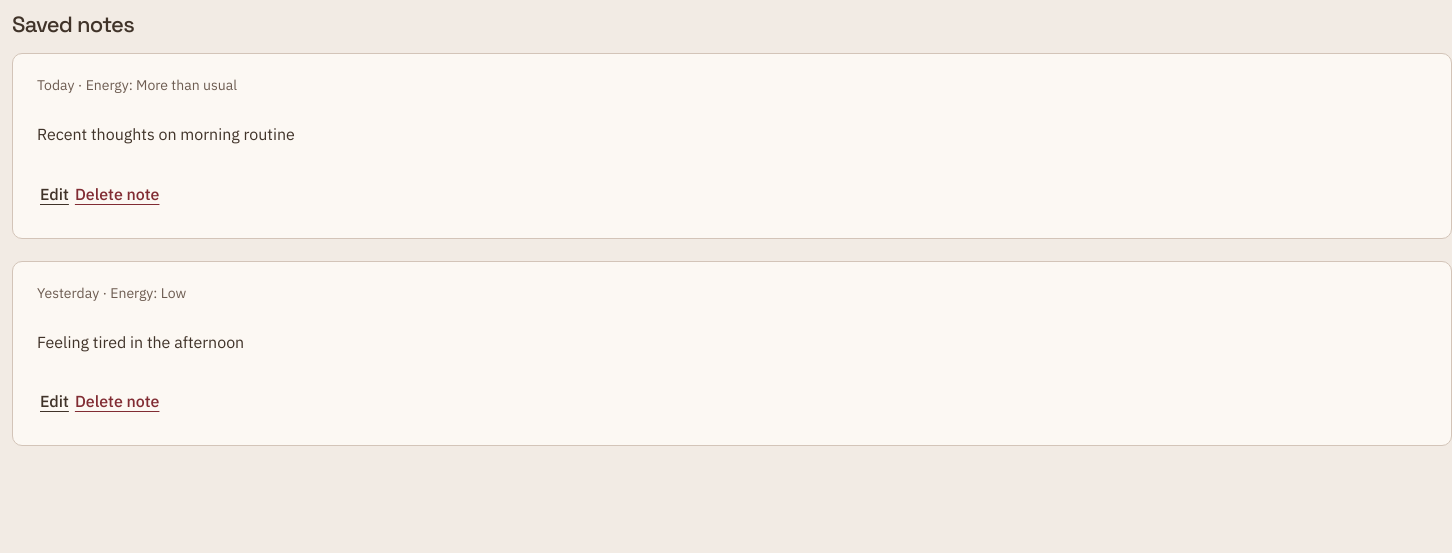
Notes UI component › clicking Edit opens the inline textarea with Save and Cancel
What coordinates should you click on to do the following:
click the button "Edit" below "Today"
I would click on:
 (54, 195)
Its box is [37,172,72,218].
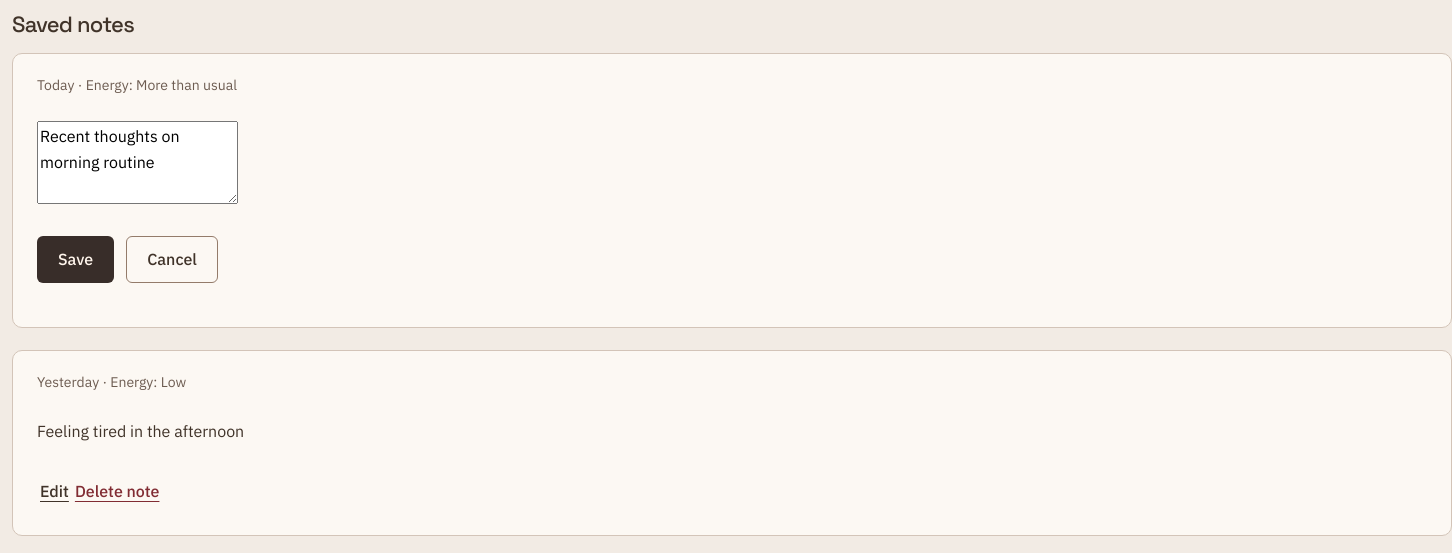
Check: the text box showing "Recent thoughts on morning routine" is shown, box [37,121,238,204]
Check: the button "Save" is shown, box [37,236,114,283]
Check: the button "Cancel" is shown
// Cancel restores original display
What coordinates should you click on to do the following:
click the button "Cancel"
I would click on:
 (172, 260)
Its box is [126,236,218,283].
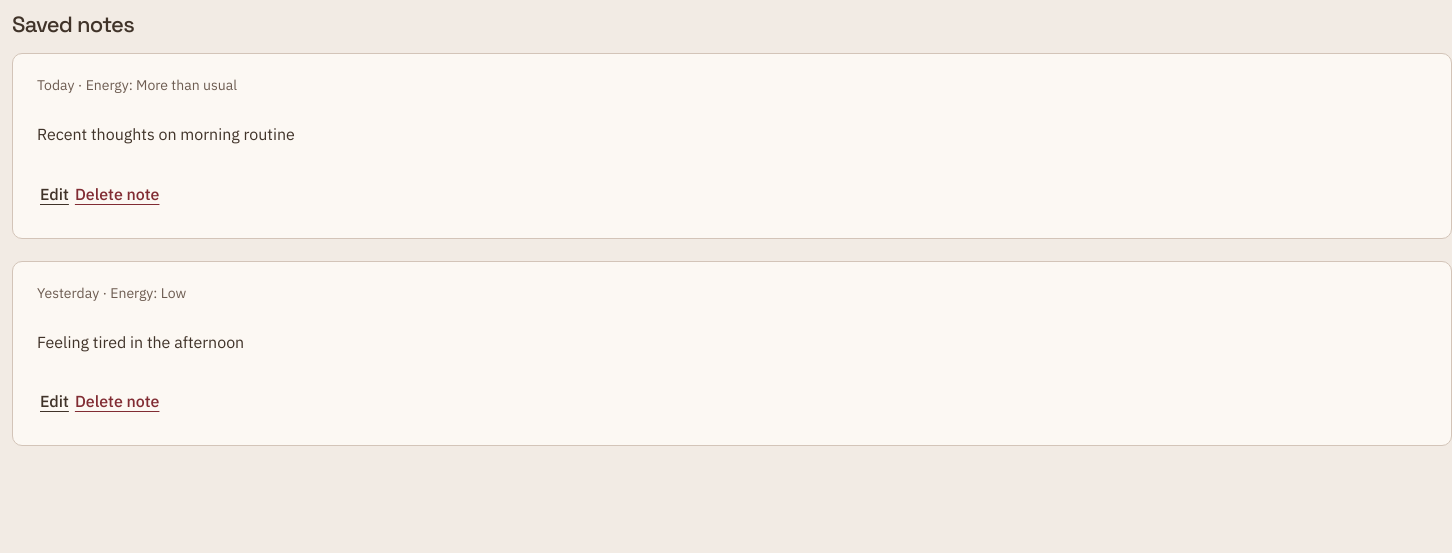
Check: the text "Recent thoughts on morning routine" is shown, box [37,124,295,144]
